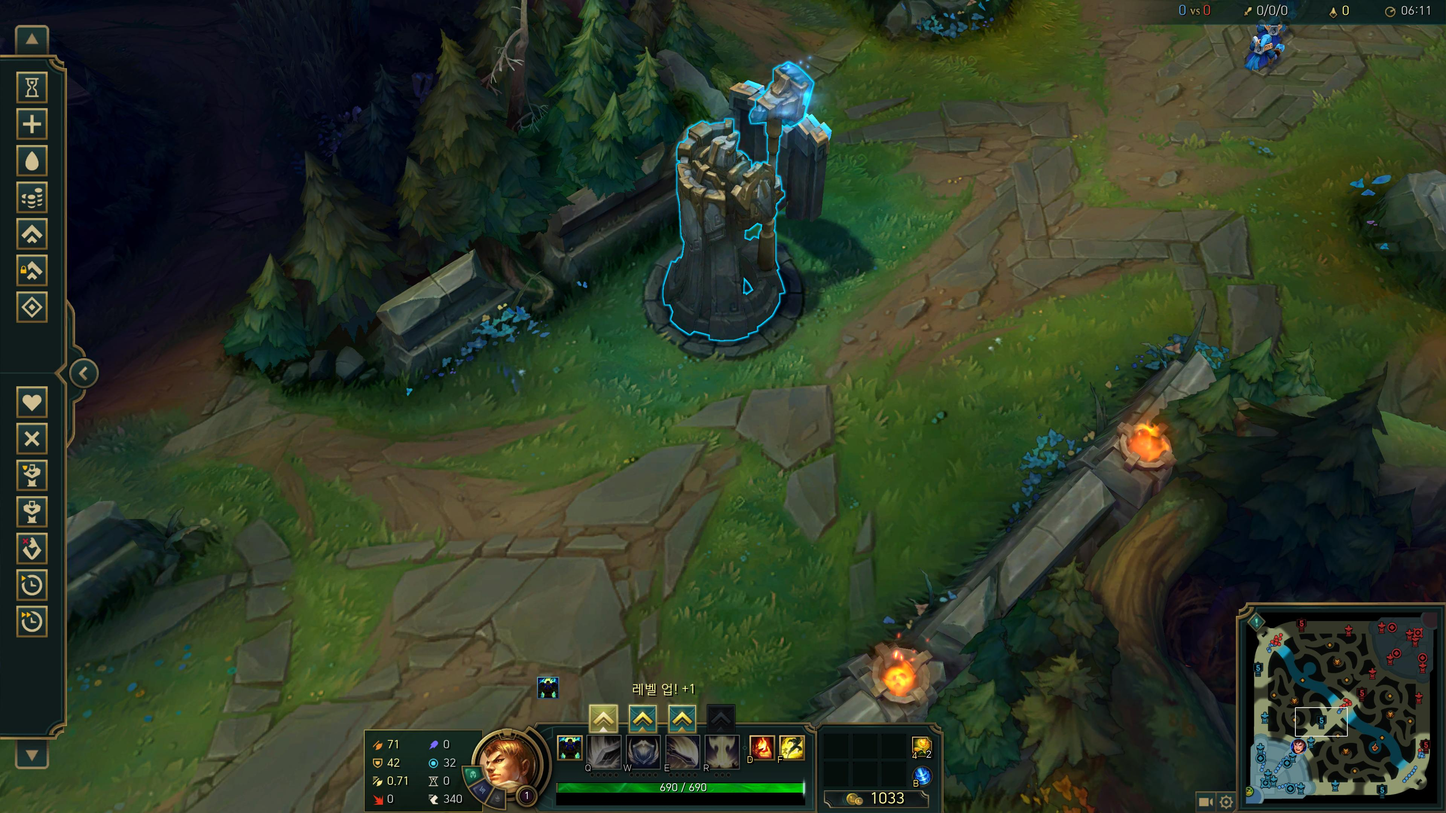ally-caster-minion: (1246, 21, 1289, 69)
ally-tower: (645, 59, 832, 361)
